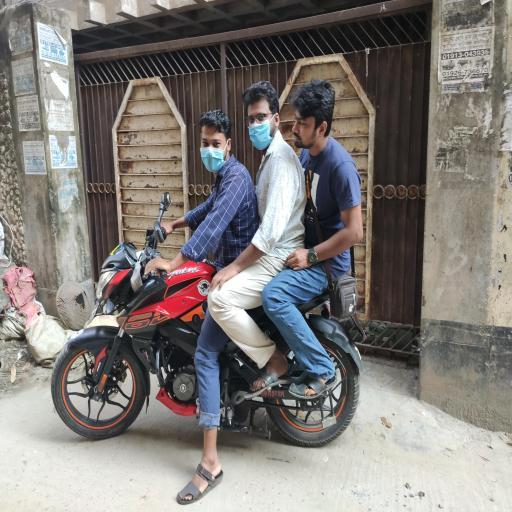no helmet: (174, 101, 248, 217)
triple riding: (44, 69, 384, 507)
